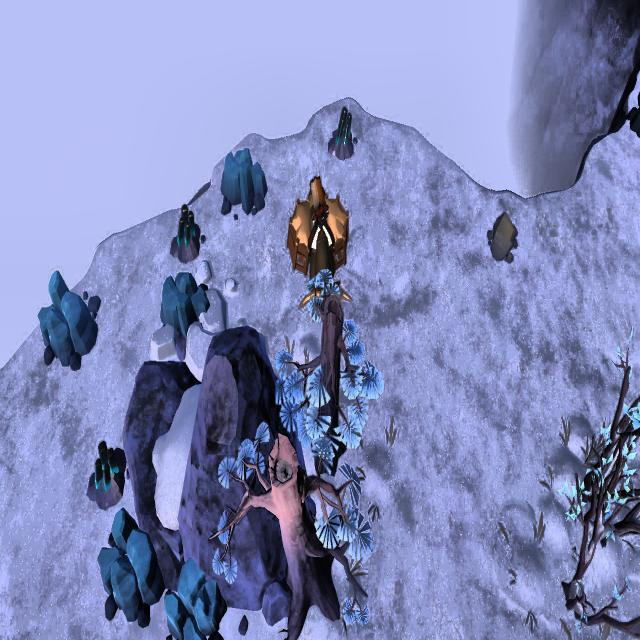ore_t4: (92, 438, 117, 492), (174, 202, 198, 245), (333, 106, 353, 152)
rock_t4: (99, 503, 163, 633), (37, 268, 96, 376), (165, 555, 228, 640), (158, 266, 212, 346), (217, 145, 273, 216)
